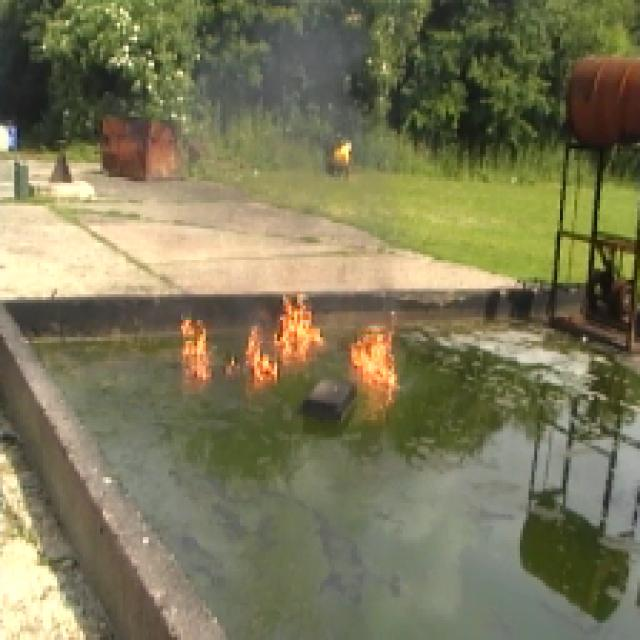fire: (168, 298, 399, 394)
